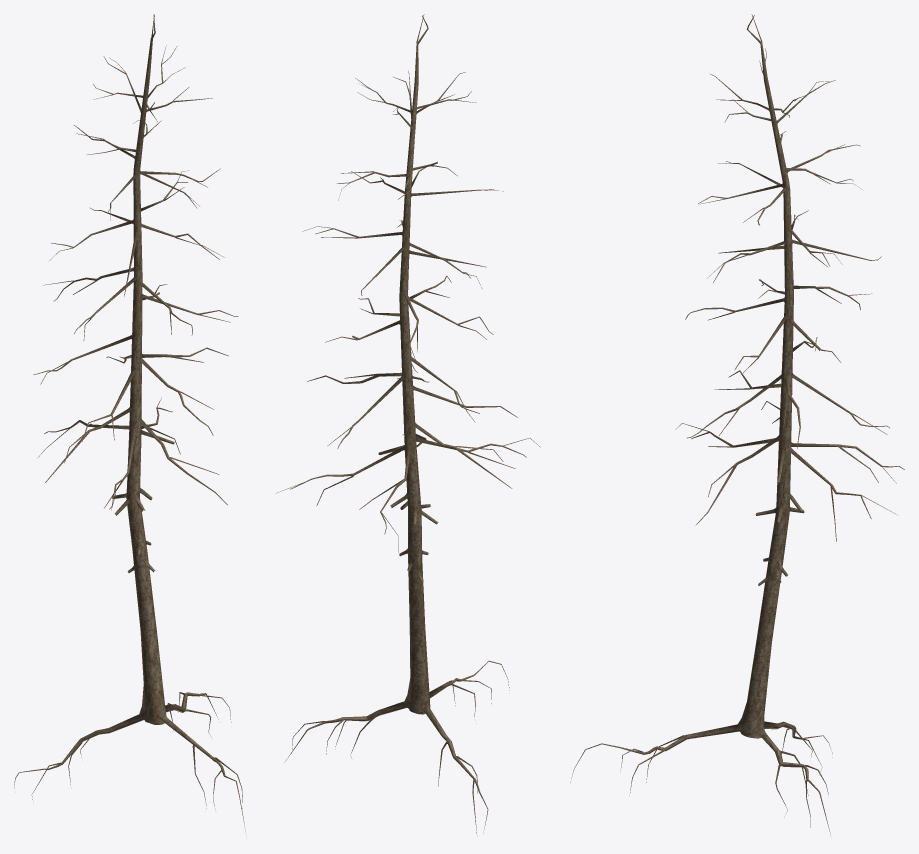
The model's file is arbo_mid_poly_dead_pine_tree.glb.
3 views of the same model, side by side, from view 1: azimuth 30°, elevation 25°; view 2: azimuth 150°, elevation 25°; view 3: azimuth 270°, elevation 25° (orthographic). The views are drawn at different scales.
Visible parts, largest first — view 1: Dead_PineTree_Bark_Mat_0; view 2: Dead_PineTree_Bark_Mat_0; view 3: Dead_PineTree_Bark_Mat_0.
Boxes of the visible parts, bbox=[...] form: Dead_PineTree_Bark_Mat_0: bbox=[14, 14, 245, 830]; Dead_PineTree_Bark_Mat_0: bbox=[275, 14, 540, 835]; Dead_PineTree_Bark_Mat_0: bbox=[570, 14, 904, 835].
Size of the model in its own units: 3.82 by 14 by 5.27.
1 material, 1 textured.
